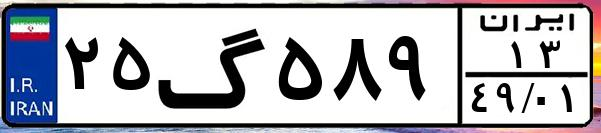0: (535, 70, 560, 125)
1: (560, 70, 590, 125), (508, 27, 537, 80)
2: (57, 26, 110, 100)
3: (537, 27, 568, 80)
4: (470, 70, 495, 125)
5: (270, 28, 330, 110), (110, 28, 156, 98)
8: (330, 28, 385, 110)
9: (385, 28, 445, 110), (495, 70, 520, 125)
گ: (156, 12, 270, 120)
